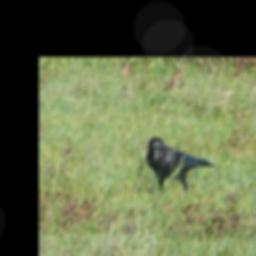Crow: (146, 137, 218, 195)
